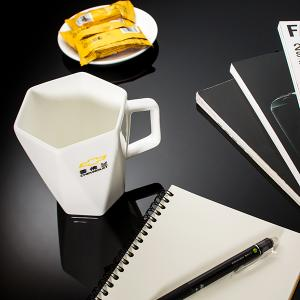cup: (12, 72, 162, 220)
